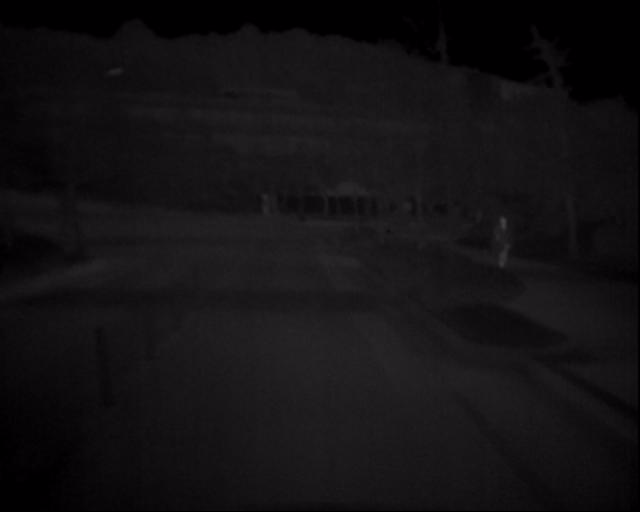person: (495, 209, 521, 275), (262, 194, 282, 222)
